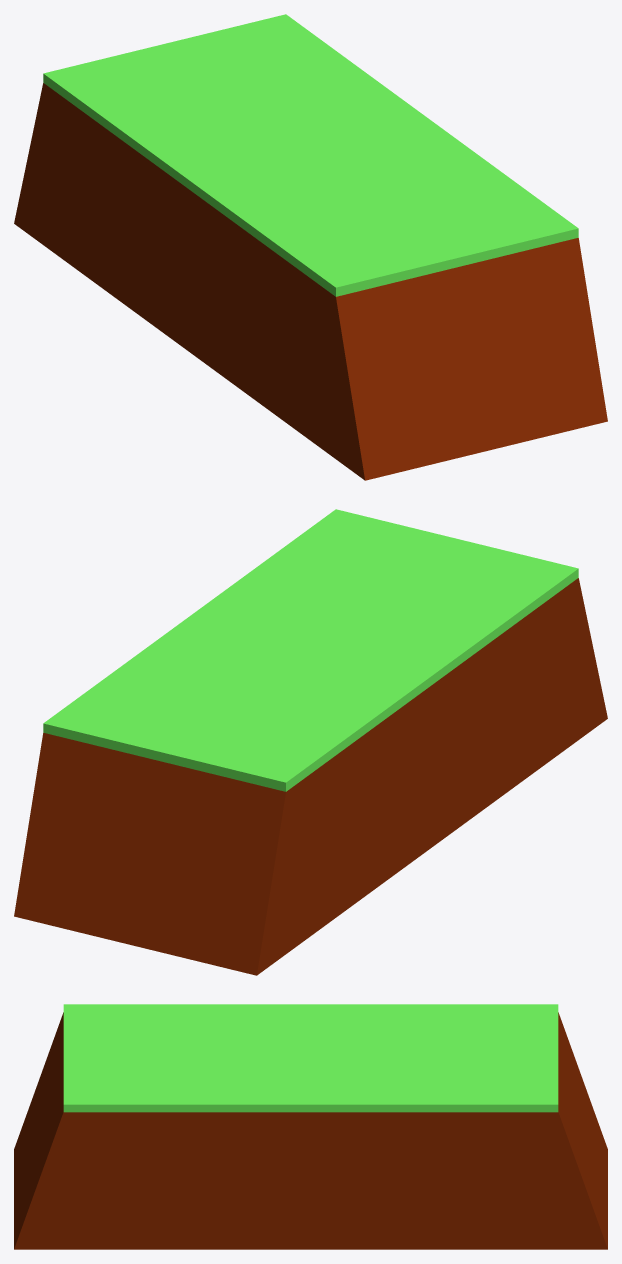
The model's file is escenarioTestDerecha1L.fbx.
The picture shows the model from 3 angles, top to bottom: view 1: azimuth 30°, elevation 25°; view 2: azimuth 150°, elevation 25°; view 3: azimuth 270°, elevation 25°; orthographic projection. The views are drawn at different scales.
Visible parts, largest first — view 1: Cube.015; view 2: Cube.015; view 3: Cube.015.
Part boxes in pixels (x1,y1,x2,y2): Cube.015: (14,14,607,480); Cube.015: (14,509,607,975); Cube.015: (14,1004,607,1249).
Bounding box in the file's own units: 3321 × 2244 × 8321.
